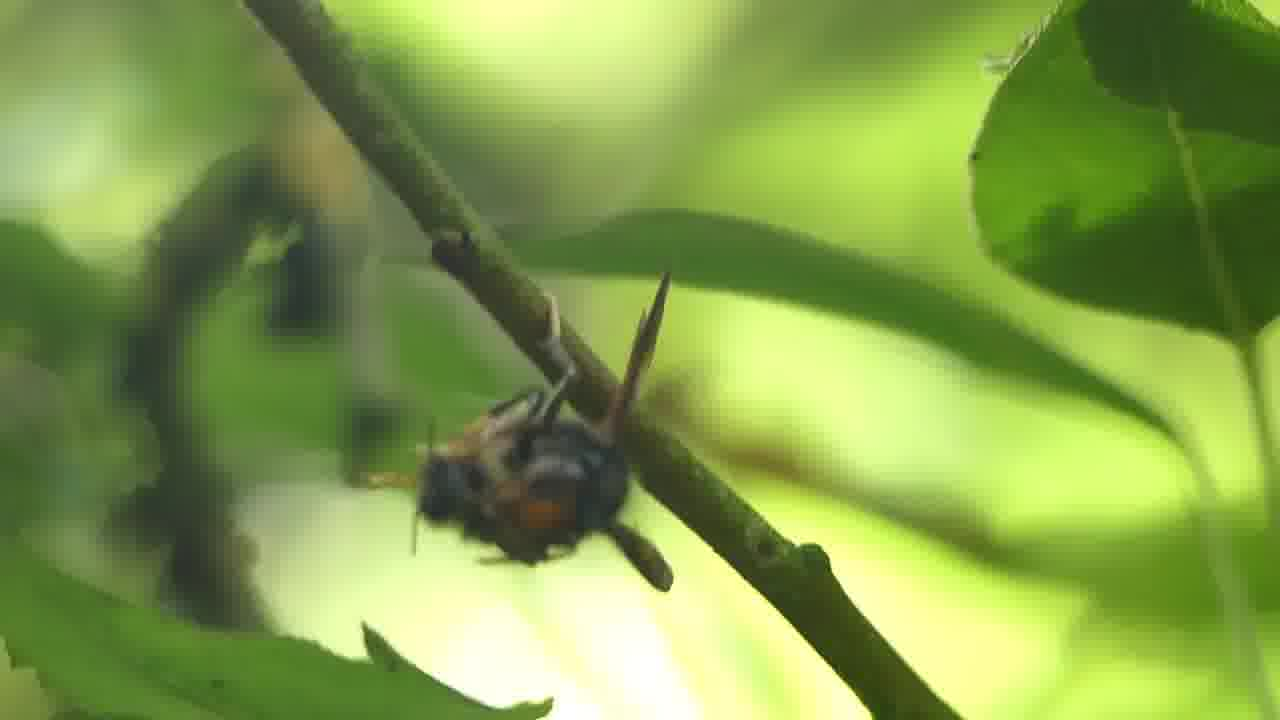hornet: (392, 367, 708, 595)
